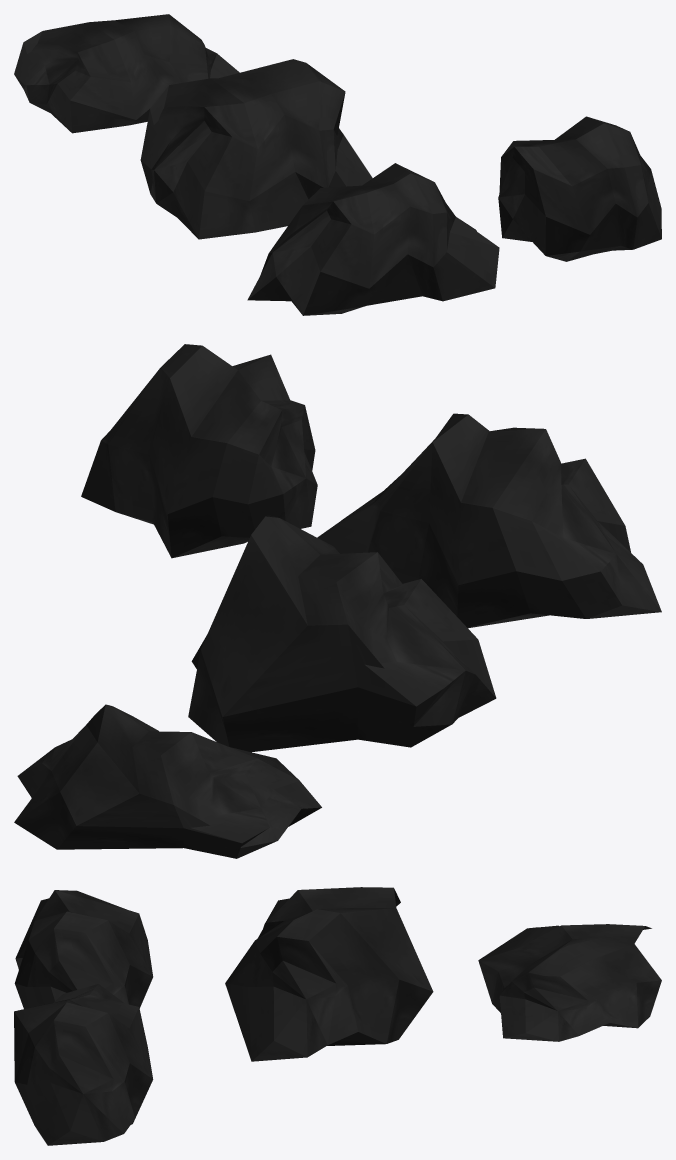
Rendered from RocksOBJ.obj.
The picture shows the model from 3 angles, top to bottom: view 1: azimuth 30°, elevation 25°; view 2: azimuth 150°, elevation 25°; view 3: azimuth 270°, elevation 25°; orthographic projection. The views are drawn at different scales.
Parts seen in each view (by area): view 1: pSphere3, pSphere2, pSphere1, pSphere4; view 2: pSphere3, pSphere2, pSphere1, pSphere4; view 3: pSphere3, pSphere1, pSphere4, pSphere2.
Boxes of the visible parts, x1=… form: pSphere3: x1=140, y1=59, x2=372, y2=239; pSphere2: x1=247, y1=163, x2=499, y2=315; pSphere1: x1=498, y1=116, x2=661, y2=261; pSphere4: x1=14, y1=14, x2=239, y2=133; pSphere3: x1=188, y1=515, x2=496, y2=752; pSphere2: x1=317, y1=413, x2=661, y2=628; pSphere1: x1=81, y1=344, x2=317, y2=558; pSphere4: x1=14, y1=704, x2=321, y2=858; pSphere3: x1=225, y1=887, x2=433, y2=1061; pSphere1: x1=14, y1=984, x2=153, y2=1145; pSphere4: x1=478, y1=924, x2=661, y2=1041; pSphere2: x1=14, y1=890, x2=153, y2=1008.
Size of the model in its own units: 3 by 1.04 by 4.17.
